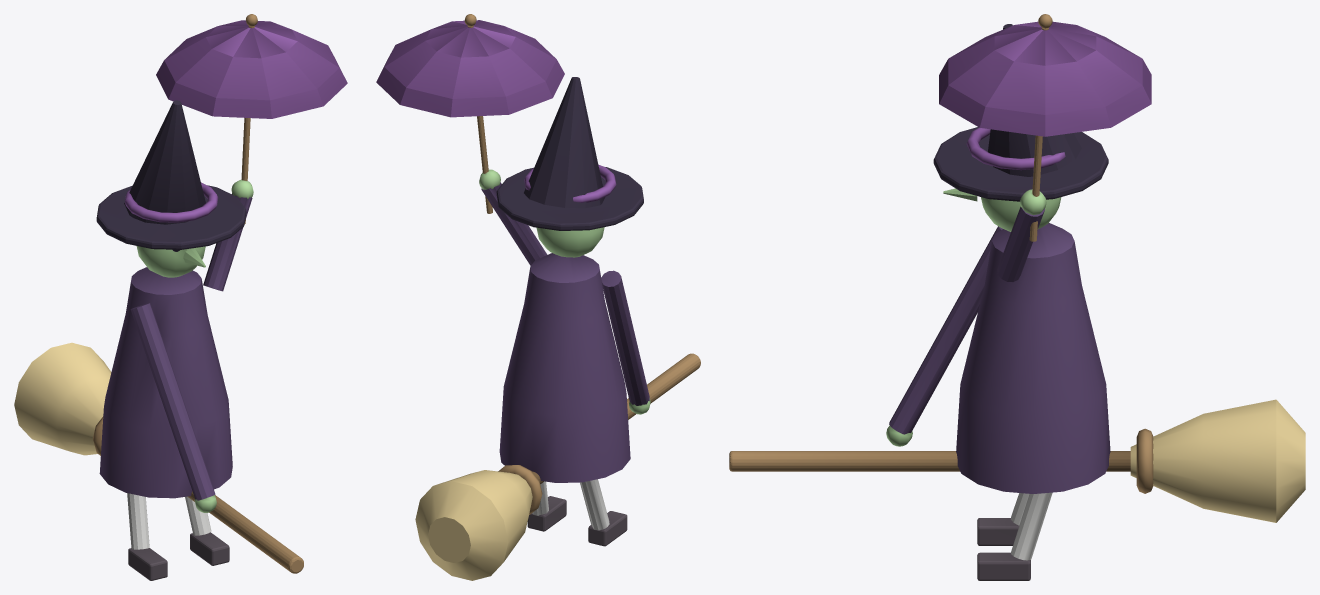
Rendered from witch.glb.
The picture shows the model from 3 angles, left to right: view 1: azimuth 30°, elevation 25°; view 2: azimuth 150°, elevation 25°; view 3: azimuth 270°, elevation 25°; orthographic projection. The views are drawn at different scales.
Parts seen in each view (by area): view 1: Witch; view 2: Witch; view 3: Witch.
Boxes of the visible parts, <box> form: Witch: <box>14,14,347,580</box>; Witch: <box>376,14,700,580</box>; Witch: <box>729,14,1305,580</box>.
Size of the model in its own units: 1.32 by 2.71 by 2.37.
